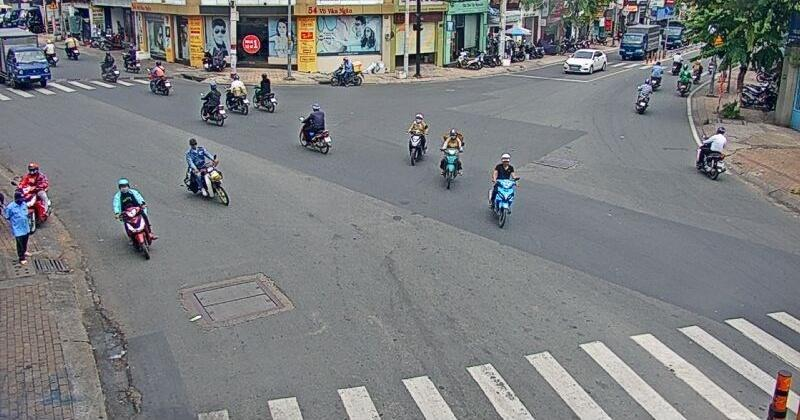xe may: (113, 179, 157, 260), (183, 138, 230, 206), (489, 153, 519, 229), (297, 103, 331, 155), (696, 126, 726, 180), (439, 129, 464, 189), (200, 83, 227, 126), (407, 113, 428, 166), (225, 71, 250, 115), (252, 72, 277, 113), (330, 56, 364, 86), (148, 60, 172, 96), (634, 78, 652, 114)
